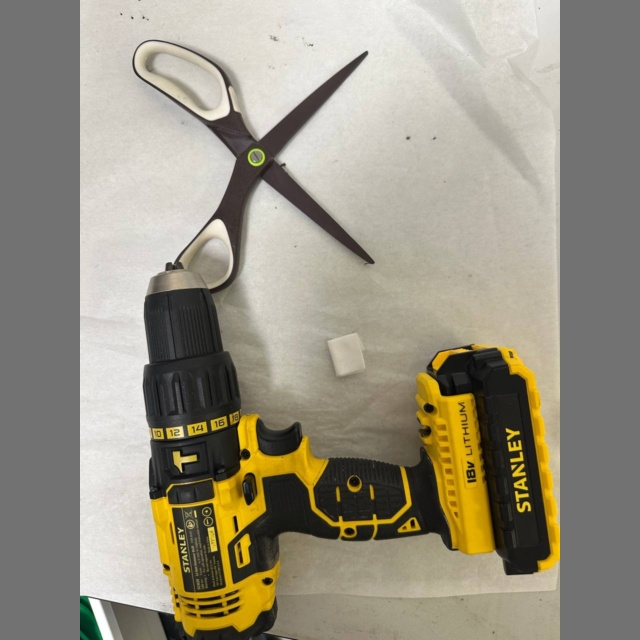drill: (144, 270, 558, 640)
scissor: (133, 41, 374, 291)
